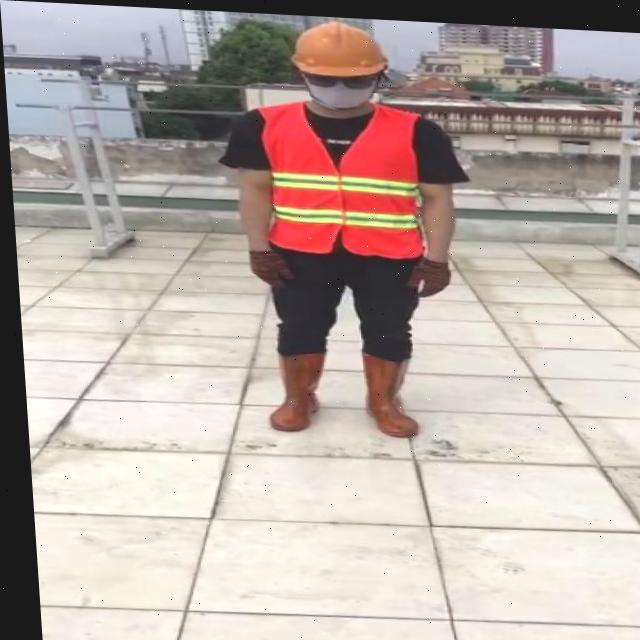Gloves: (400, 250, 448, 294), (245, 245, 291, 286)
Safety-Boot: (259, 344, 324, 430), (355, 346, 414, 434)
Safety-Vest: (253, 93, 427, 258)
